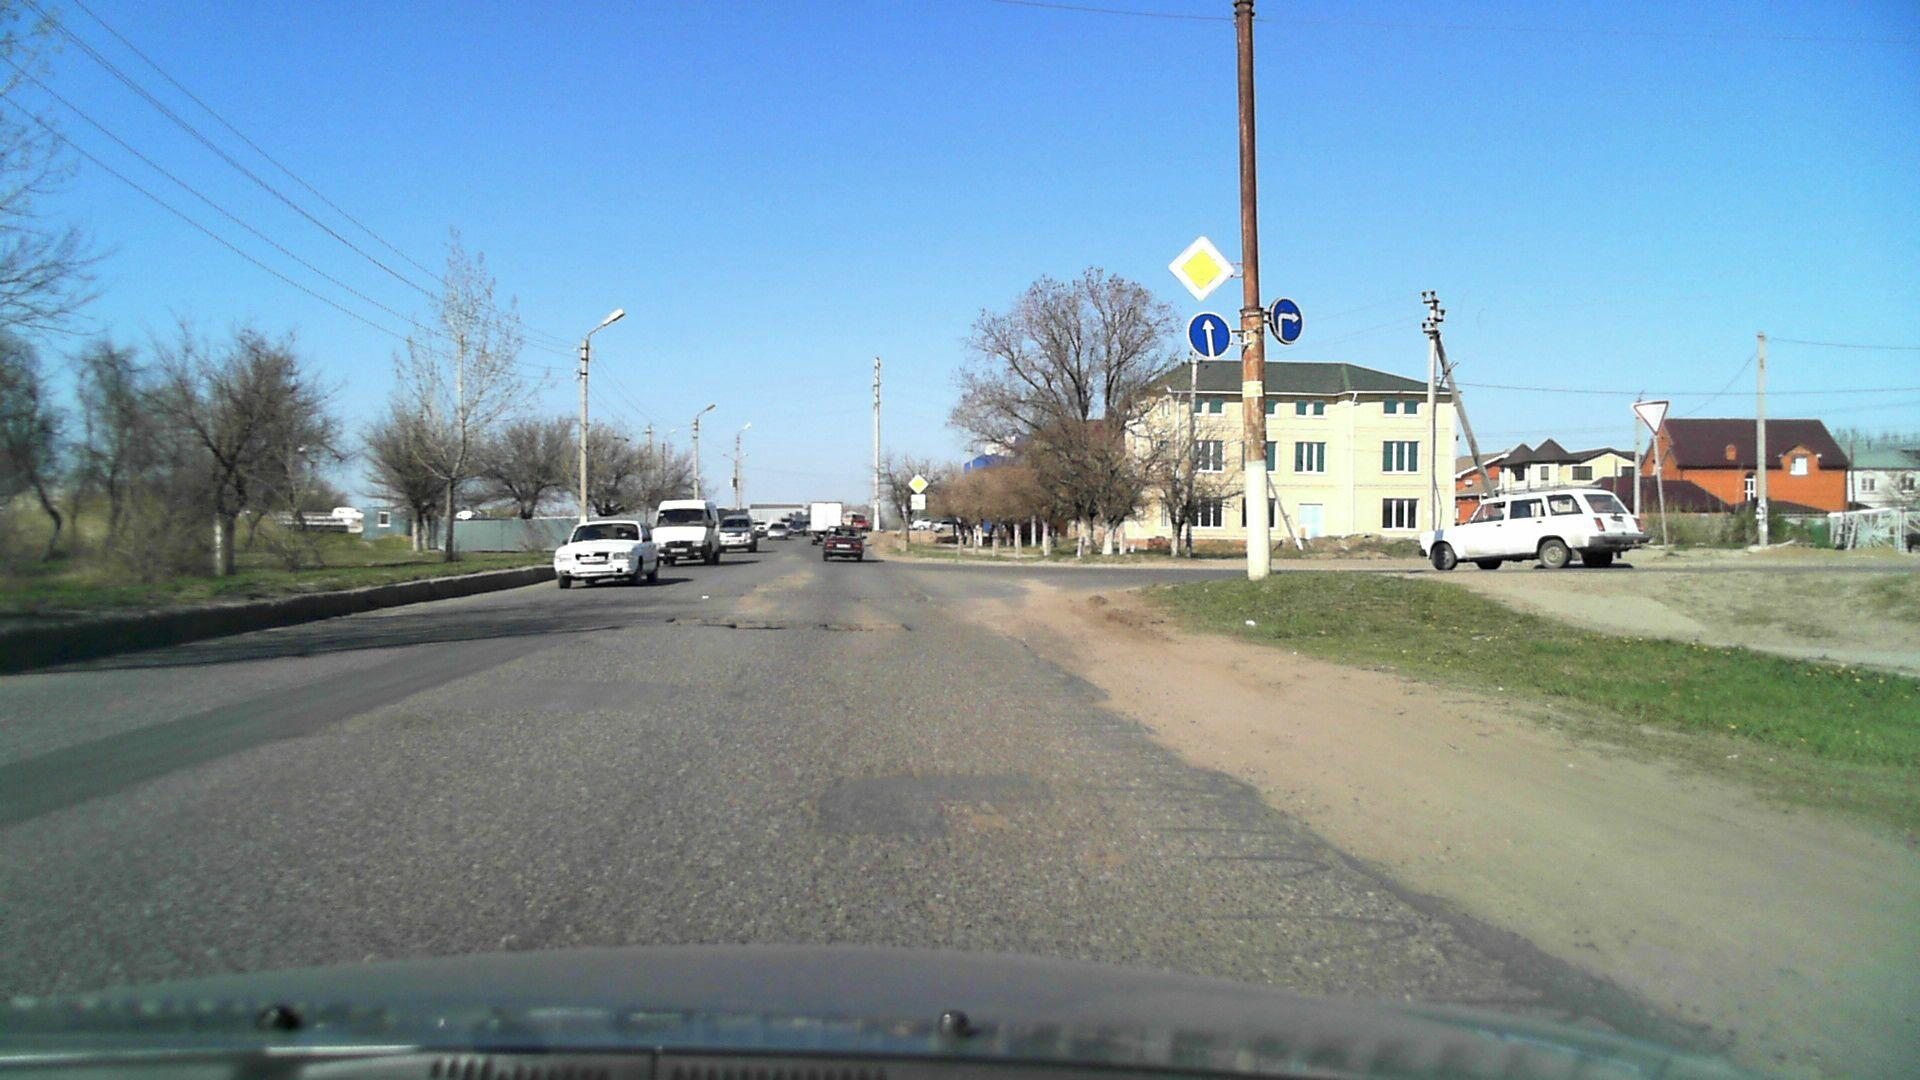2_1: (1168, 232, 1232, 300), (908, 475, 929, 493)
2_4: (1630, 392, 1672, 439)
4_1_1: (1188, 313, 1233, 362)
4_1_2: (1268, 297, 1307, 344)
8_13: (910, 493, 927, 511)
